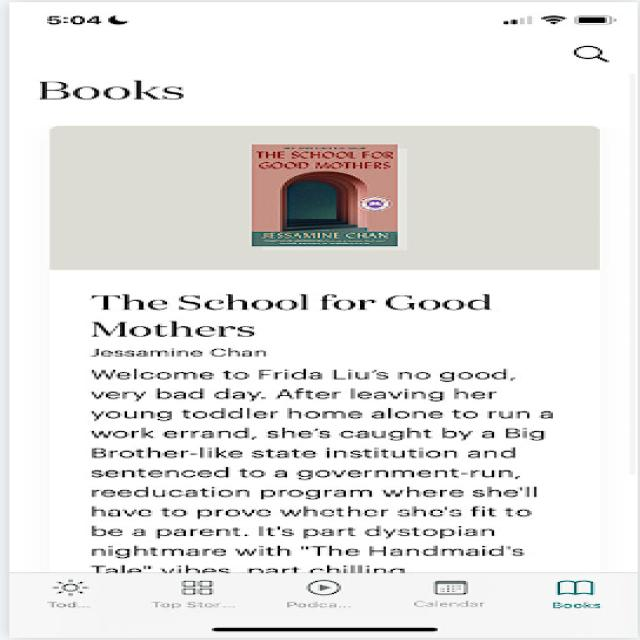column: (9, 101, 640, 575)
icon button: (398, 569, 508, 620), (530, 568, 637, 619), (271, 573, 379, 621), (150, 570, 252, 620), (21, 574, 122, 616)
image: (48, 124, 609, 272)
text: (71, 283, 602, 572), (24, 74, 195, 105)
